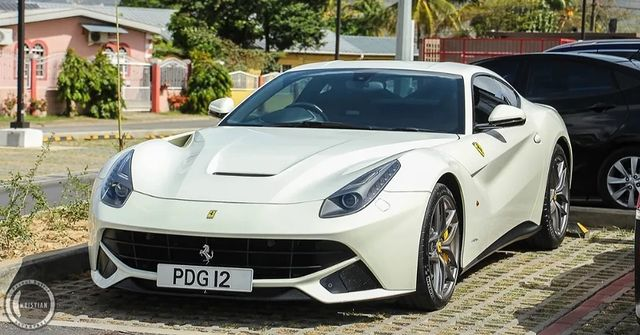License-Plate: (158, 264, 251, 285)
